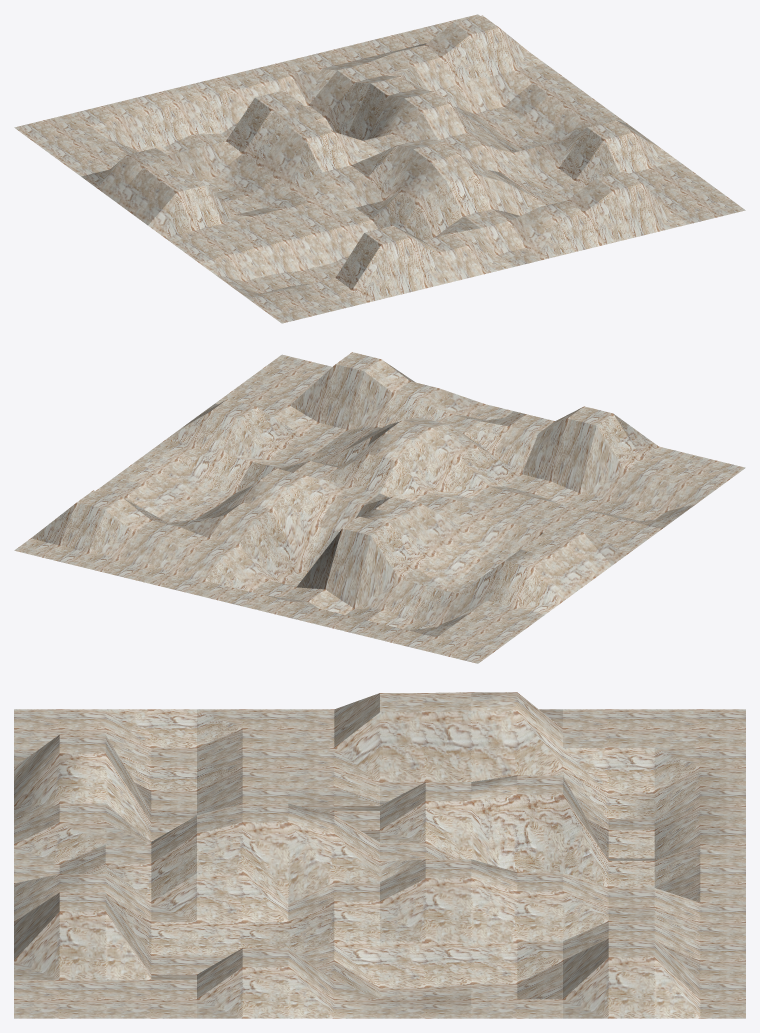
The model's file is courser11a.obj.
The picture shows the model from 3 angles, top to bottom: view 1: azimuth 30°, elevation 25°; view 2: azimuth 150°, elevation 25°; view 3: azimuth 270°, elevation 25°; orthographic projection. The views are drawn at different scales.
Visible parts, largest first — view 1: Plane; view 2: Plane; view 3: Plane.
Boxes of the visible parts, <box> form: Plane: <box>14,14,745,323</box>; Plane: <box>14,352,745,663</box>; Plane: <box>14,692,745,1018</box>.
Bounding box in the file's own units: 40 × 6.38 × 40.
1 material, 1 textured.
